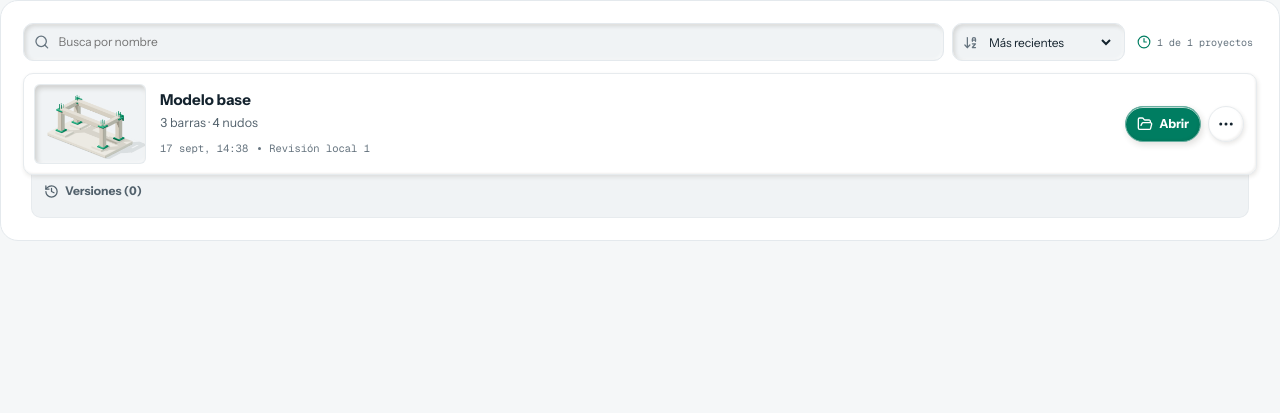
Test case: ProjectHub › duplicates a project without hiding the original
expect the text "Modelo base" is shown: met, box x1=160 y1=90 x2=251 y2=109
Click the button named "Más acciones para Modelo base".
click(1226, 124)  # box x1=1208 y1=106 x2=1244 y2=142
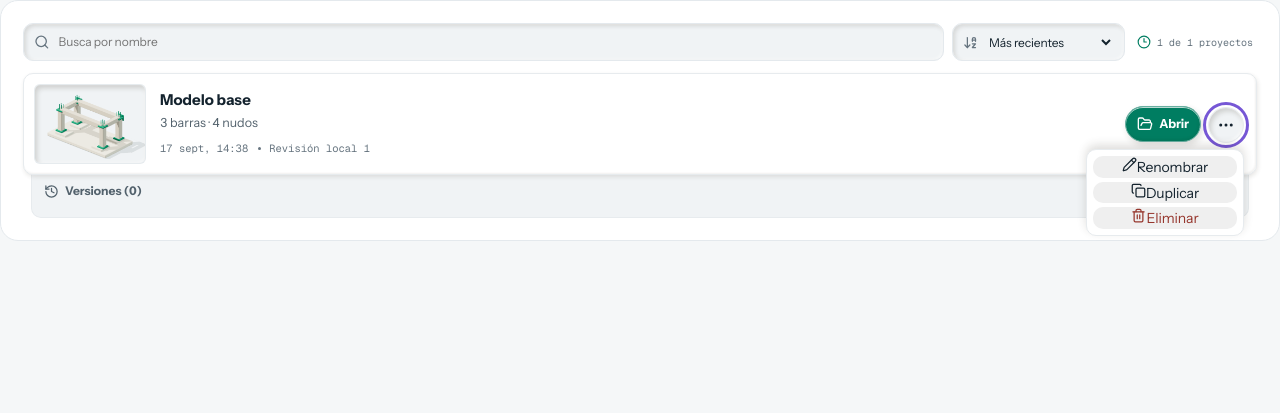
Click the button with aria-label "Duplicar Modelo base".
click(1165, 192)  # box x1=1093 y1=182 x2=1237 y2=203
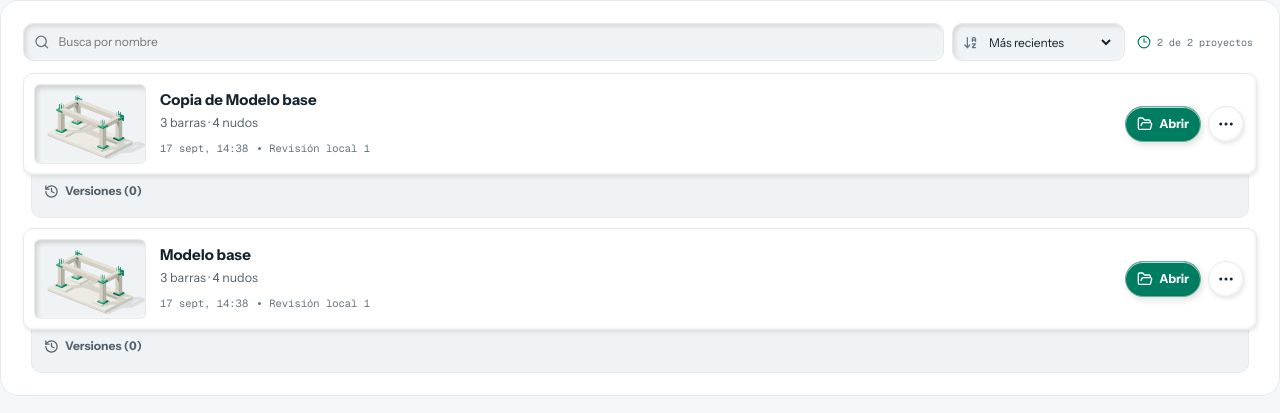
expect the text "Modelo base" is shown: met, box x1=160 y1=245 x2=251 y2=264
expect the text "Copia de Modelo base" is shown: met, box x1=160 y1=90 x2=317 y2=109
